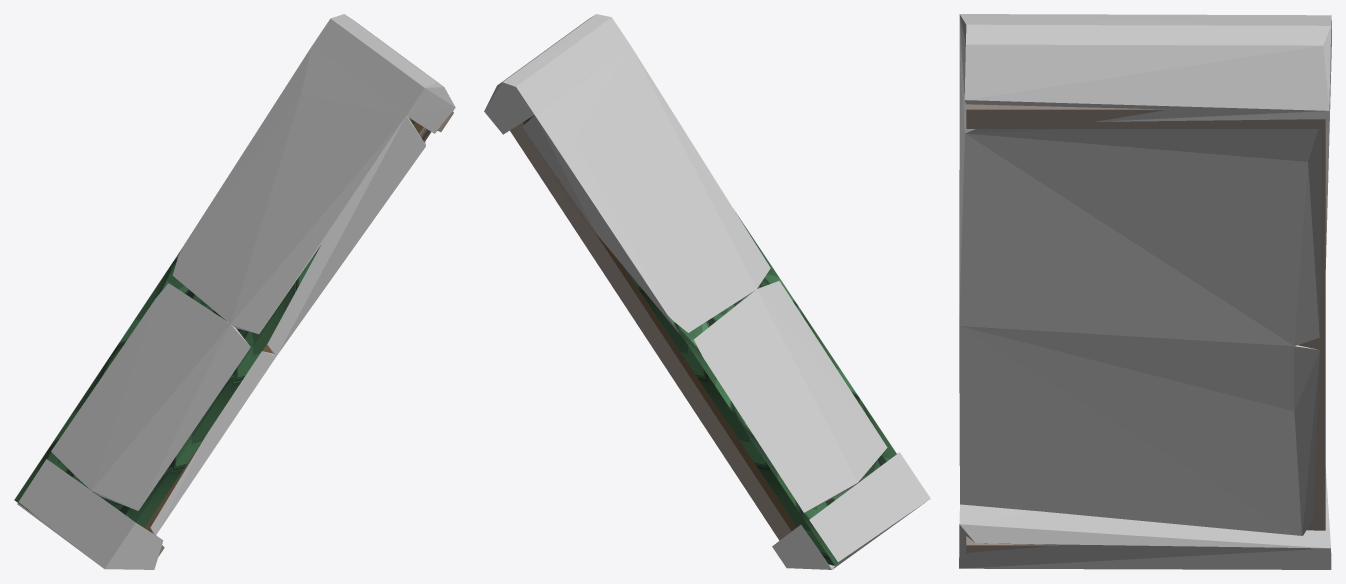
The model's file is SM_Bld_Roof_Straight_Half_01.fbx.
The picture shows the model from 3 angles, left to right: view 1: azimuth 30°, elevation 25°; view 2: azimuth 150°, elevation 25°; view 3: azimuth 270°, elevation 25°; orthographic projection. The views are drawn at different scales.
Visible parts, largest first — view 1: SM_Bld_Roof_Straight_Half_01_ConvexHulls, SM_Bld_Roof_Straight_Half_01; view 2: SM_Bld_Roof_Straight_Half_01_ConvexHulls, SM_Bld_Roof_Straight_Half_01; view 3: SM_Bld_Roof_Straight_Half_01_ConvexHulls, SM_Bld_Roof_Straight_Half_01.
Part boxes in pixels (x1=…): SM_Bld_Roof_Straight_Half_01_ConvexHulls: x1=17, y1=14, x2=455, y2=569; SM_Bld_Roof_Straight_Half_01: x1=14, y1=111, x2=453, y2=556; SM_Bld_Roof_Straight_Half_01_ConvexHulls: x1=484, y1=14, x2=930, y2=569; SM_Bld_Roof_Straight_Half_01: x1=510, y1=115, x2=896, y2=565; SM_Bld_Roof_Straight_Half_01_ConvexHulls: x1=959, y1=14, x2=1331, y2=569; SM_Bld_Roof_Straight_Half_01: x1=966, y1=104, x2=1325, y2=554.
Bounding box in the file's own units: 277 × 130 × 313.
4 materials, 3 textured.
